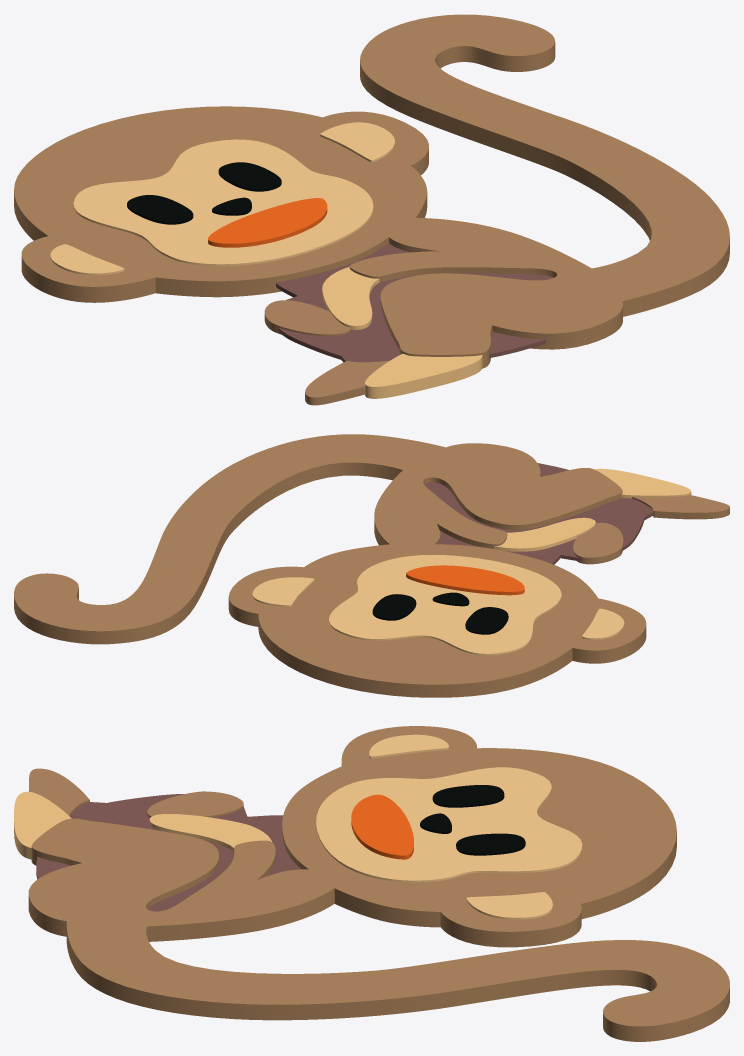
The model's file is emoji_u1f412.glb.
3 views of the same model, one above another, from view 1: azimuth 30°, elevation 25°; view 2: azimuth 150°, elevation 25°; view 3: azimuth 270°, elevation 25° (orthographic). The views are drawn at different scales.
Visible parts, largest first — view 1: emoji_u1f412; view 2: emoji_u1f412; view 3: emoji_u1f412.
Part boxes in pixels (x1=…): emoji_u1f412: x1=14, y1=14, x2=729, y2=405; emoji_u1f412: x1=14, y1=434, x2=729, y2=697; emoji_u1f412: x1=14, y1=726, x2=729, y2=1041.
Size of the model in its own units: 0.0332 by 0.0014 by 0.0334.
